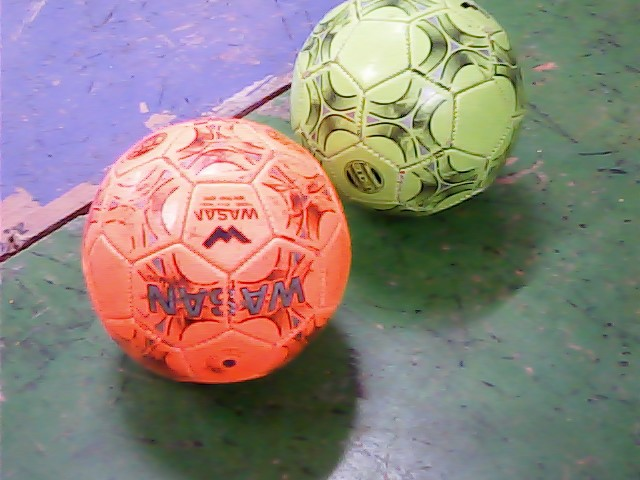Green_ball: (277, 4, 522, 216)
Orange_ball: (80, 116, 364, 393)
